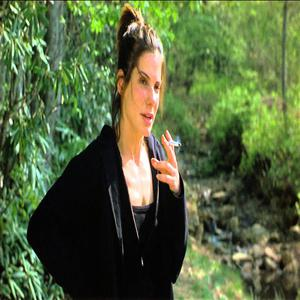cigarette: (160, 133, 183, 151)
